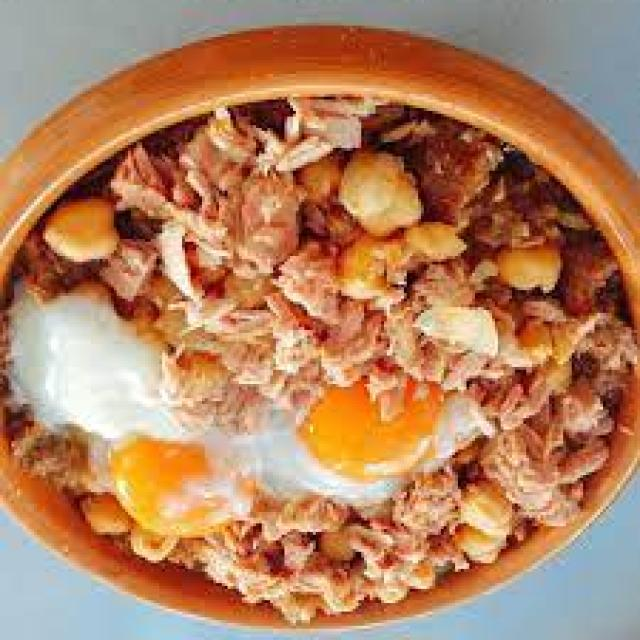Lablabi: (12, 78, 636, 628)
